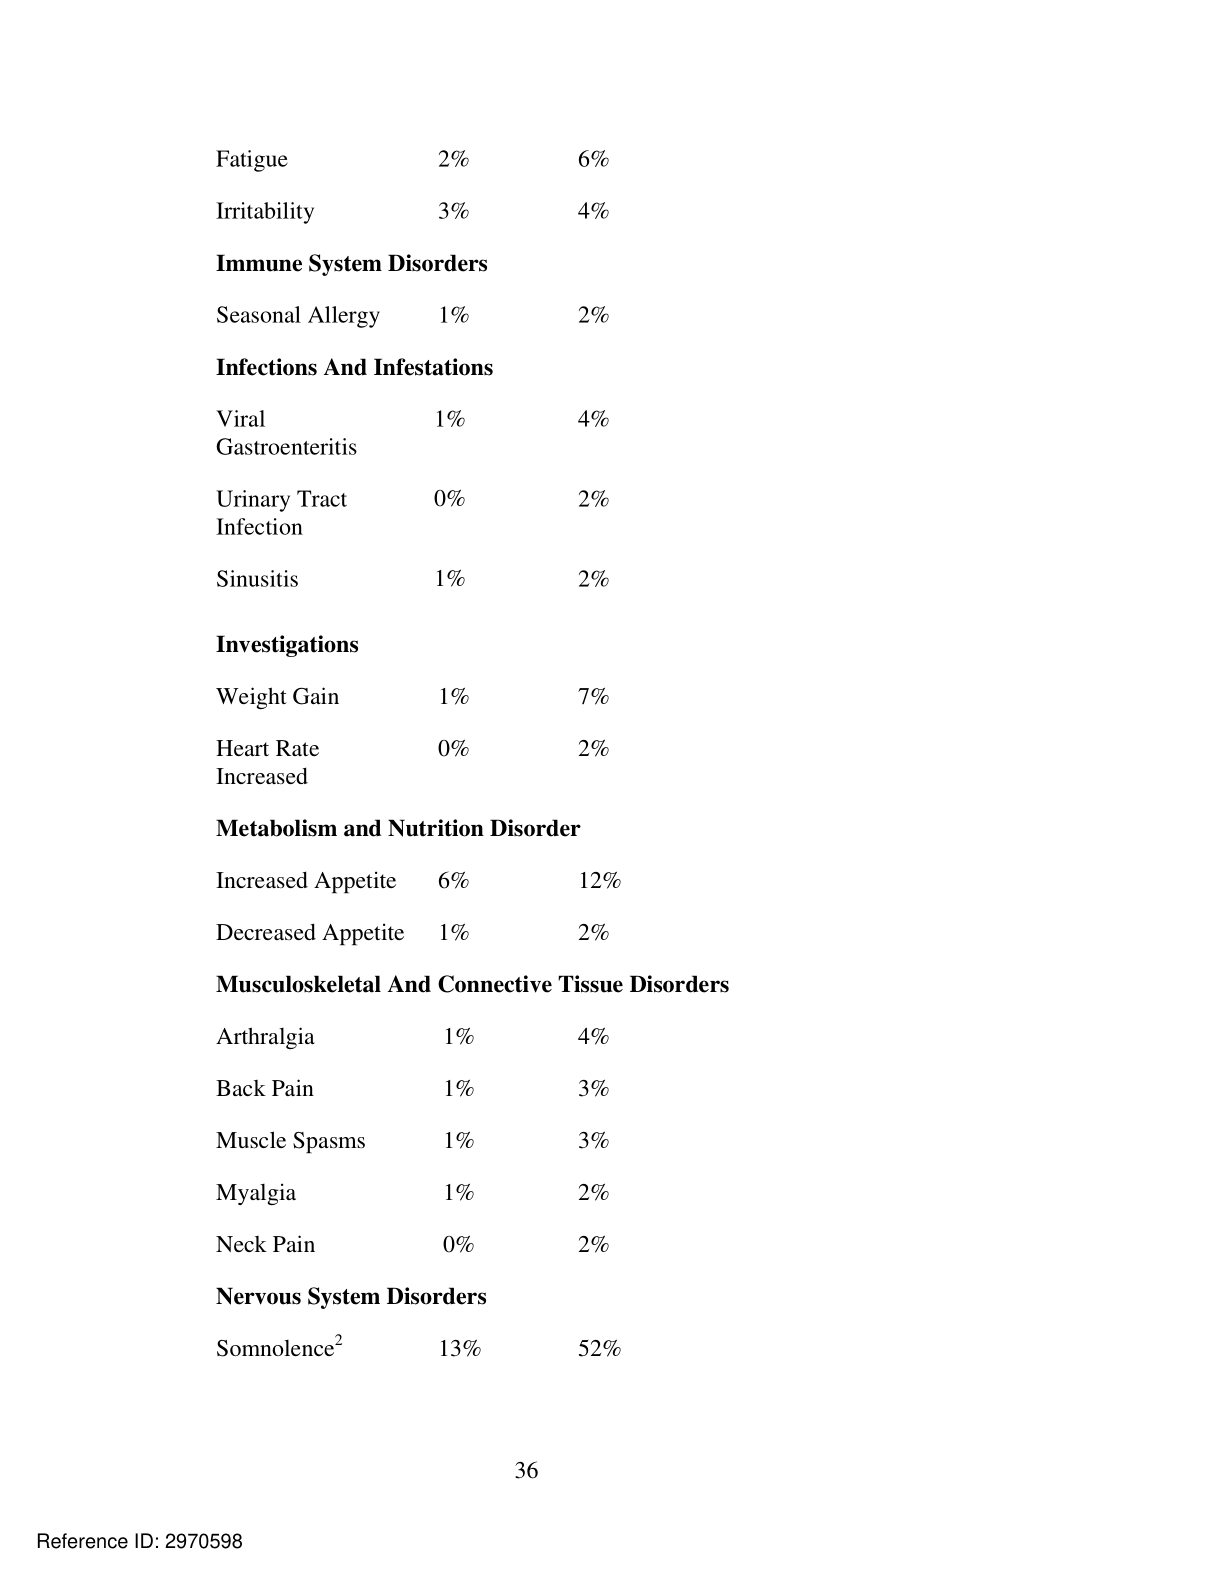nolines: (213, 144, 734, 1363)
